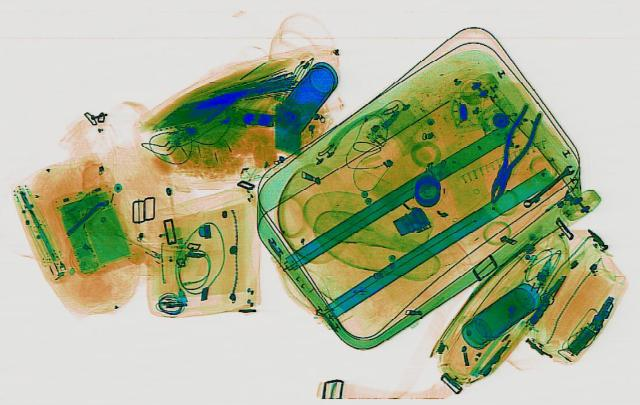Pliers: (478, 102, 548, 203)
